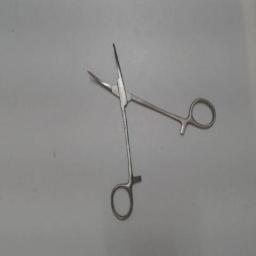Crile Artery Forceps: (82, 40, 218, 224)
